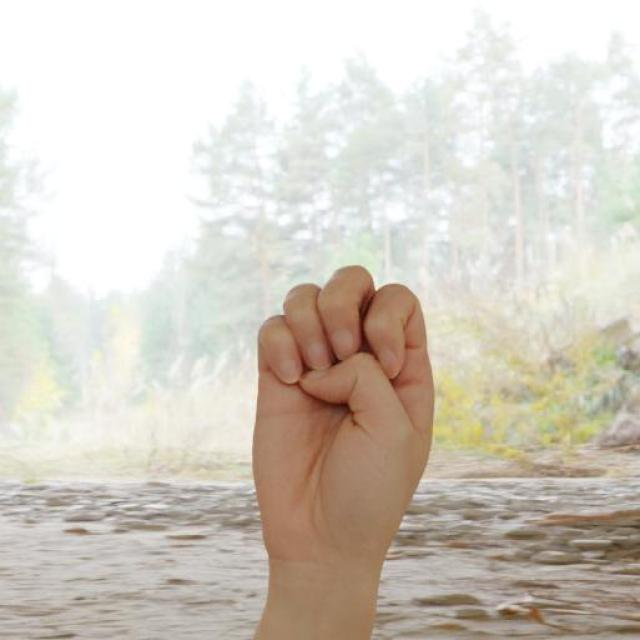E: (246, 261, 441, 573)
